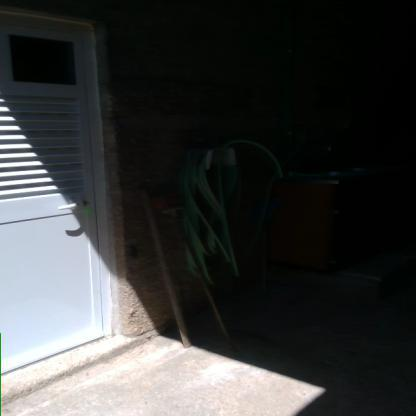door: (3, 20, 101, 378)
lever: (53, 200, 82, 212)
